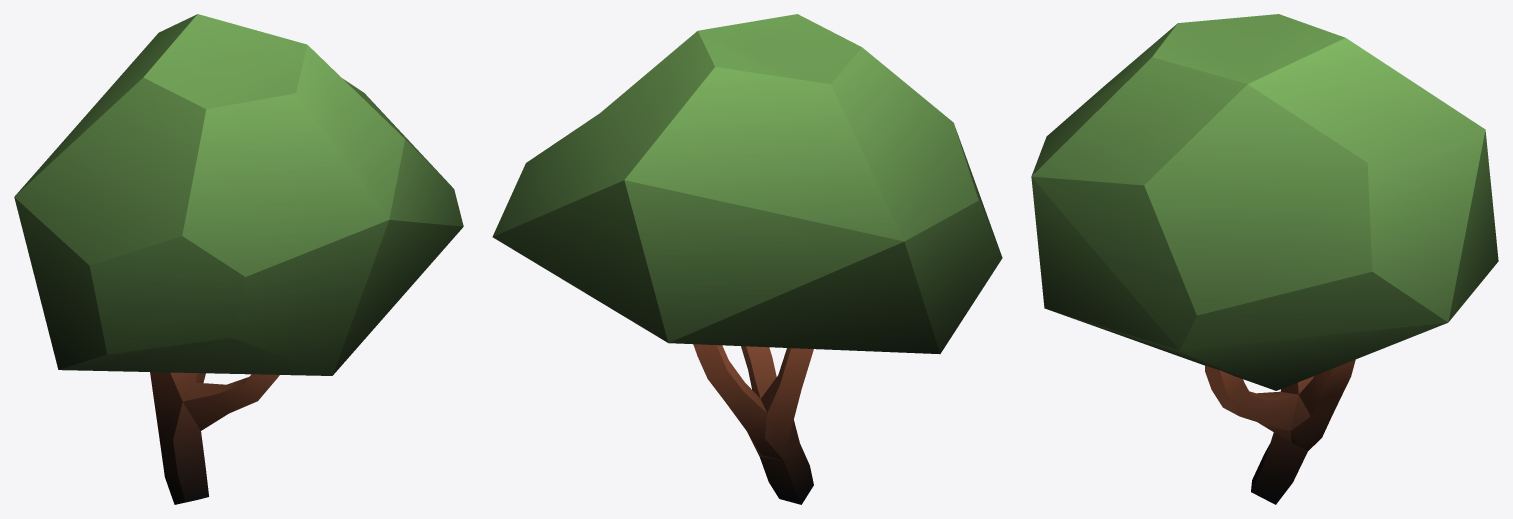
File: bush4.fbx
The picture shows the model from 3 angles, left to right: view 1: azimuth 30°, elevation 25°; view 2: azimuth 150°, elevation 25°; view 3: azimuth 270°, elevation 25°; orthographic projection. The views are drawn at different scales.
Parts seen in each view (by area): view 1: bush2; view 2: bush2; view 3: bush2.
Boxes of the visible parts, <box> form: bush2: <box>14,14,463,504</box>; bush2: <box>492,14,1002,504</box>; bush2: <box>1031,14,1498,504</box>.
Bounding box in the file's own units: 207 × 237 × 207.
